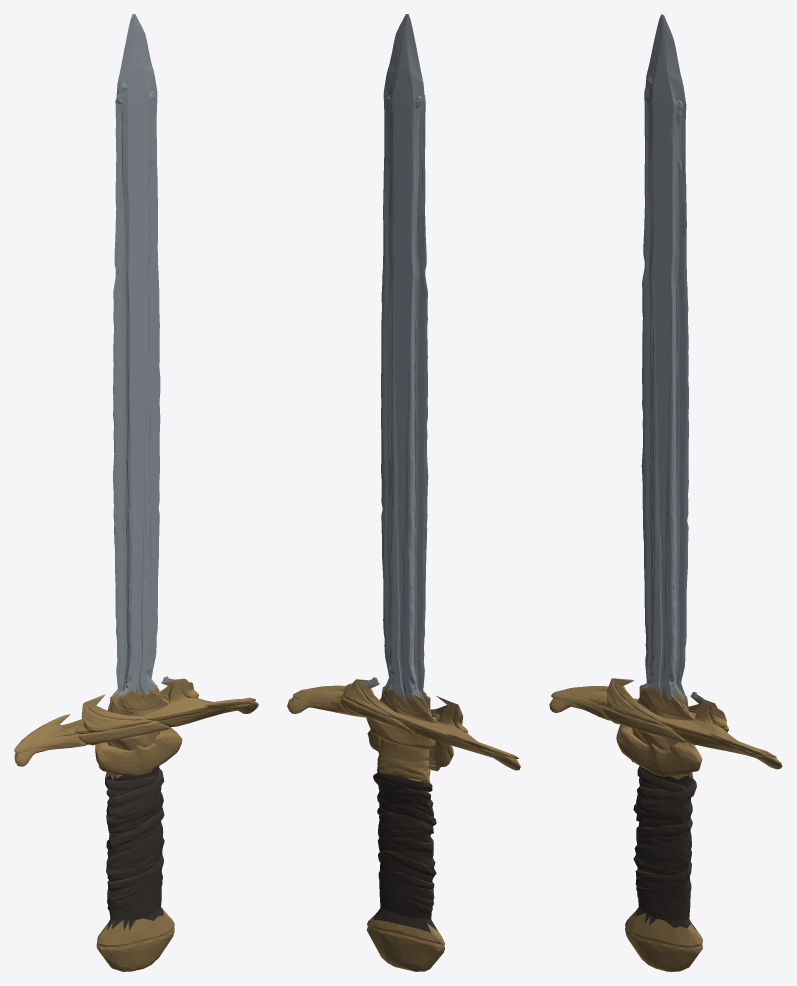
Rendered from sword-forged-cmtvnboe9001y2poagte9orpv.glb.
3 views of the same model, side by side, from view 1: azimuth 30°, elevation 25°; view 2: azimuth 150°, elevation 25°; view 3: azimuth 330°, elevation 25° (orthographic).
Parts seen in each view (by area): view 1: tripo_node_8d99e6a8-5604-47cd-86e7-0fd30ec27952; view 2: tripo_node_8d99e6a8-5604-47cd-86e7-0fd30ec27952; view 3: tripo_node_8d99e6a8-5604-47cd-86e7-0fd30ec27952.
Part boxes in pixels (x1,y1,x2,y2): tripo_node_8d99e6a8-5604-47cd-86e7-0fd30ec27952: [14, 14, 258, 971]; tripo_node_8d99e6a8-5604-47cd-86e7-0fd30ec27952: [287, 14, 520, 971]; tripo_node_8d99e6a8-5604-47cd-86e7-0fd30ec27952: [549, 14, 782, 971].
Size of the model in its own units: 0.25 by 0.96 by 0.0461.
